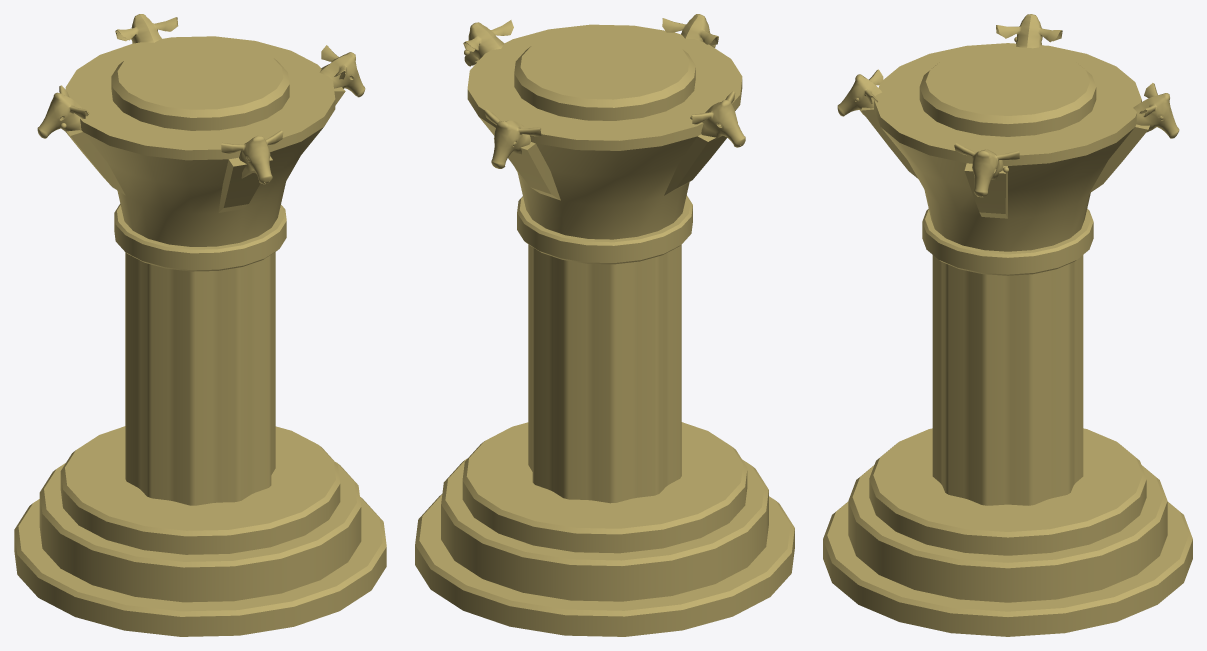
The model's file is pedastle.fbx.
The picture shows the model from 3 angles, left to right: view 1: azimuth 30°, elevation 25°; view 2: azimuth 150°, elevation 25°; view 3: azimuth 270°, elevation 25°; orthographic projection. The views are drawn at different scales.
Visible parts, largest first — view 1: CowHead2:Head2; view 2: CowHead2:Head2; view 3: CowHead2:Head2.
Part boxes in pixels (x1,y1,x2,y2): CowHead2:Head2: (14,14,386,636); CowHead2:Head2: (415,14,794,636); CowHead2:Head2: (823,14,1192,636).
Size of the model in its own units: 4.82 by 6.92 by 4.82.
